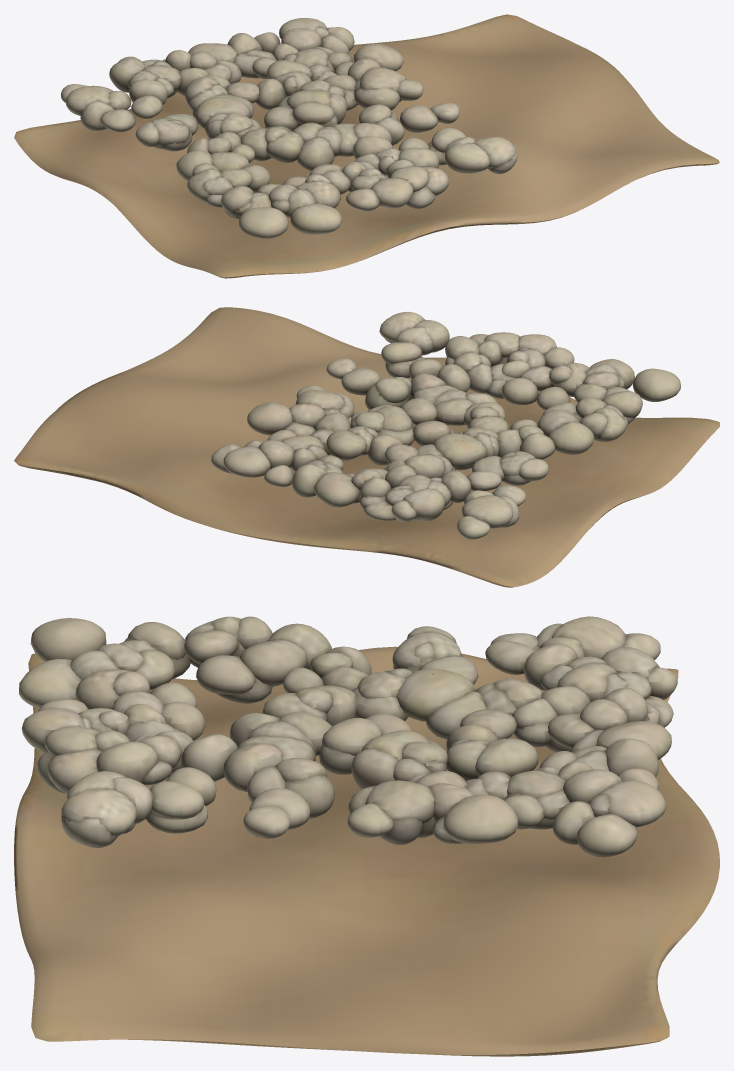
Rendered from sheepskin.glb.
The picture shows the model from 3 angles, top to bottom: view 1: azimuth 30°, elevation 25°; view 2: azimuth 150°, elevation 25°; view 3: azimuth 270°, elevation 25°; orthographic projection. The views are drawn at different scales.
Parts seen in each view (by area): view 1: sheepskin; view 2: sheepskin; view 3: sheepskin.
Boxes of the visible parts, x1=… form: sheepskin: x1=14, y1=14, x2=719, y2=278; sheepskin: x1=14, y1=307, x2=719, y2=587; sheepskin: x1=14, y1=616, x2=719, y2=1056.
Bounding box in the file's own units: 0.3065 × 0.0413 × 0.2326.
Materials: 1 (1 with a texture image).
